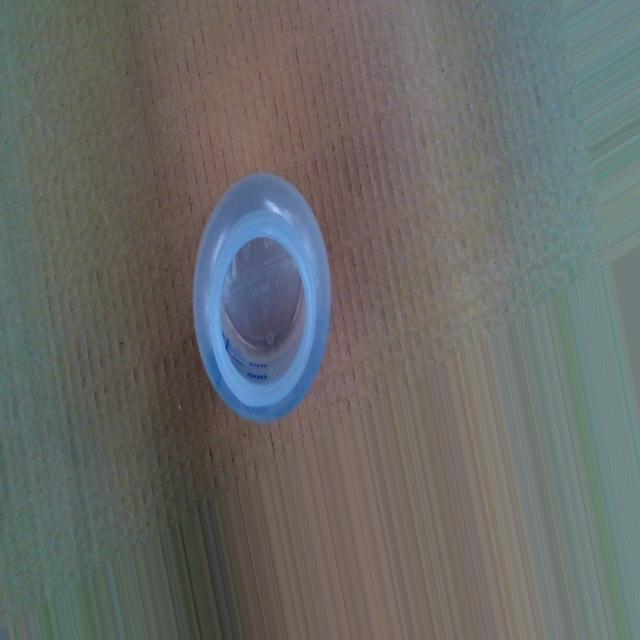bottle: (191, 168, 335, 424)
